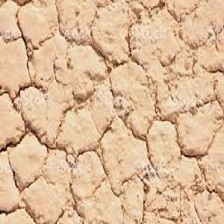clay_soil: (5, 19, 210, 221)
